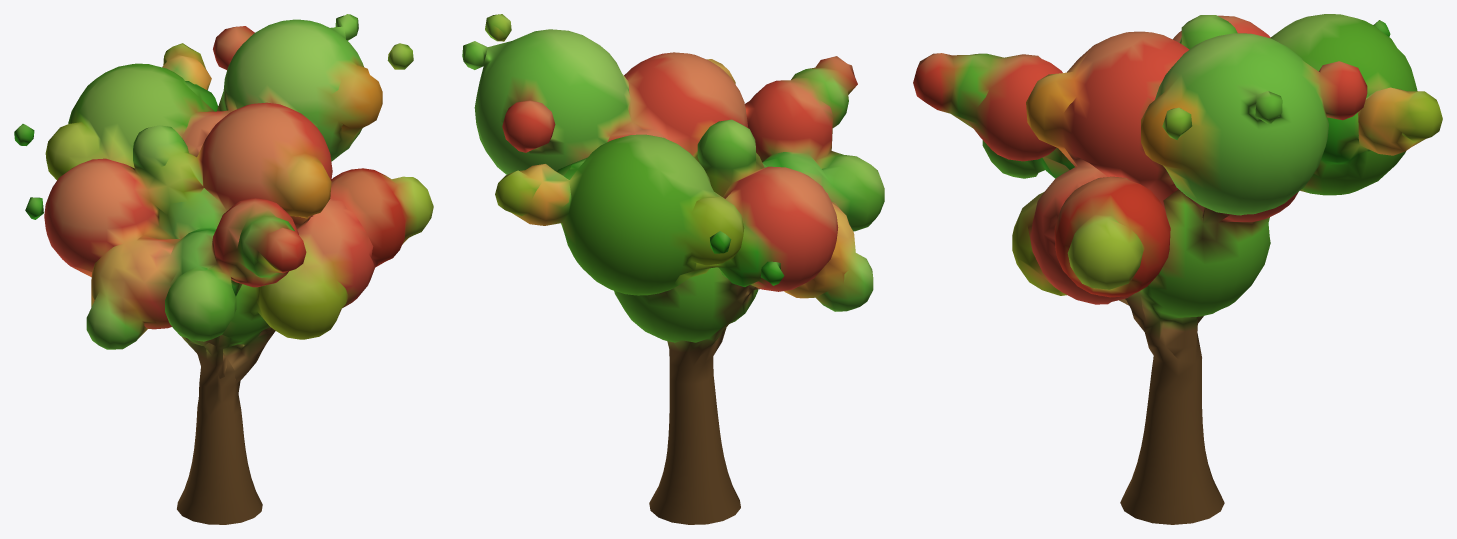
The model's file is canopy-tree-109-lod1.obj.
3 renders of one model, left to right at view 1: azimuth 30°, elevation 25°; view 2: azimuth 150°, elevation 25°; view 3: azimuth 270°, elevation 25°, orthographic. The views are drawn at different scales.
Parts seen in each view (by area): view 1: simplified; view 2: simplified; view 3: simplified.
Boxes of the visible parts, left/top/right/bottom form: simplified: left=14, top=14, right=433, bottom=524; simplified: left=462, top=14, right=884, bottom=524; simplified: left=913, top=14, right=1442, bottom=524.
Bounding box in the file's own units: 323 × 395 × 362.
